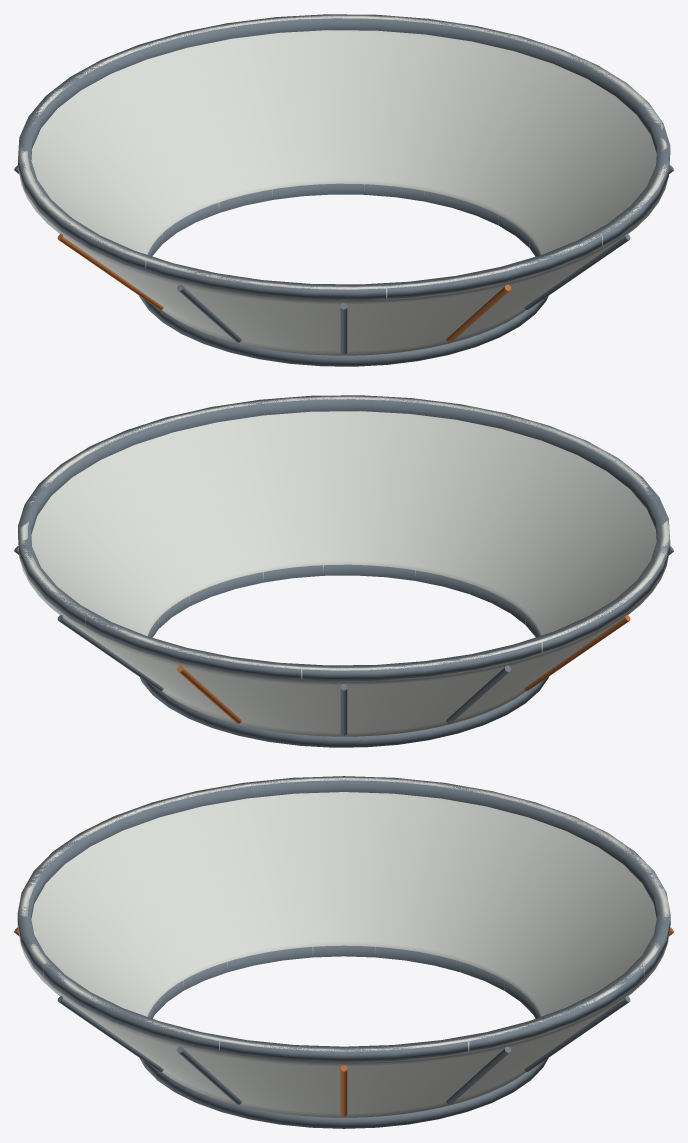
File: jugre_adapter_250_391.glb
3 views of the same model, one above another, from view 1: azimuth 30°, elevation 25°; view 2: azimuth 150°, elevation 25°; view 3: azimuth 270°, elevation 25° (orthographic).
Visible parts, largest first — view 1: jugre_adapter_250_391.mesh_Pale_thermal_blanket, jugre_adapter_250_391.mesh_Machined_steel, jugre_adapter_250_391.mesh_Spray-on_insulation; view 2: jugre_adapter_250_391.mesh_Pale_thermal_blanket, jugre_adapter_250_391.mesh_Machined_steel, jugre_adapter_250_391.mesh_Spray-on_insulation; view 3: jugre_adapter_250_391.mesh_Pale_thermal_blanket, jugre_adapter_250_391.mesh_Machined_steel.
Boxes of the visible parts, <box> form: jugre_adapter_250_391.mesh_Pale_thermal_blanket: <box>18,14,668,355</box>; jugre_adapter_250_391.mesh_Machined_steel: <box>14,14,673,366</box>; jugre_adapter_250_391.mesh_Spray-on_insulation: <box>57,234,510,342</box>; jugre_adapter_250_391.mesh_Pale_thermal_blanket: <box>19,395,669,736</box>; jugre_adapter_250_391.mesh_Machined_steel: <box>14,395,673,747</box>; jugre_adapter_250_391.mesh_Spray-on_insulation: <box>177,615,630,723</box>; jugre_adapter_250_391.mesh_Pale_thermal_blanket: <box>18,776,669,1117</box>; jugre_adapter_250_391.mesh_Machined_steel: <box>17,776,670,1128</box>.
Bounding box in the file's own units: 3.97 × 0.837 × 3.96.
